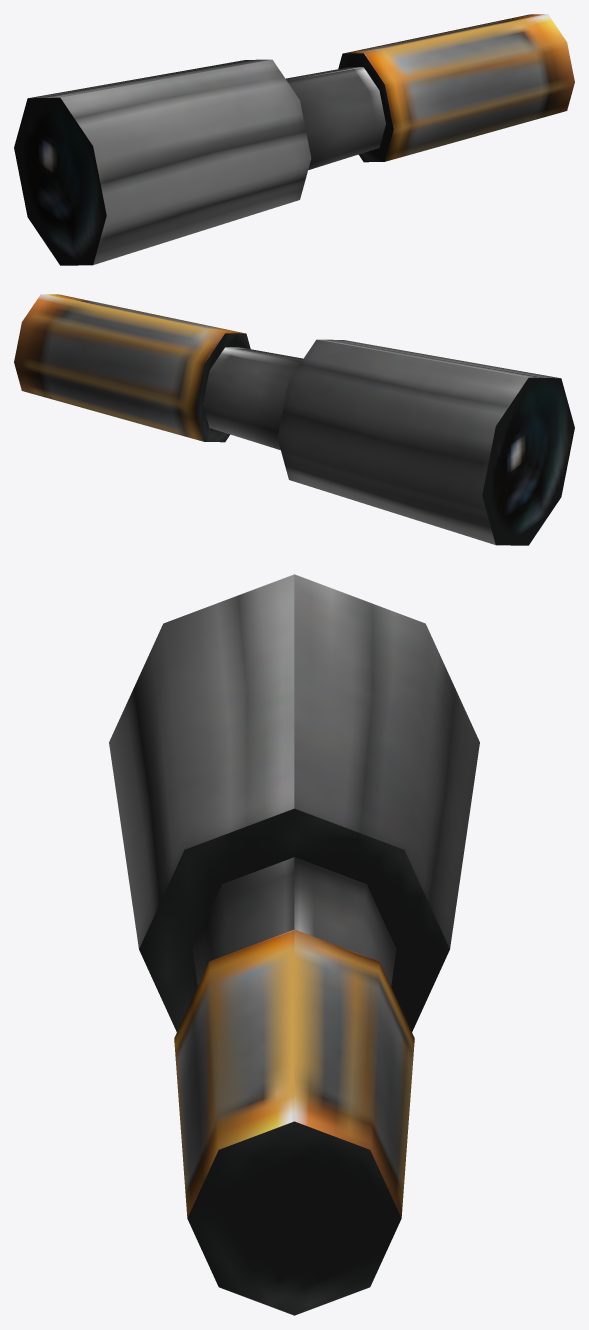
File: monocular.FBX
3 views of the same model, one above another, from view 1: azimuth 30°, elevation 25°; view 2: azimuth 150°, elevation 25°; view 3: azimuth 270°, elevation 25° (orthographic). The views are drawn at different scales.
Visible parts, largest first — view 1: InventoryItem_Monoscope; view 2: InventoryItem_Monoscope; view 3: InventoryItem_Monoscope.
Part boxes in pixels (x1,y1,x2,y2): InventoryItem_Monoscope: [14, 14, 574, 265]; InventoryItem_Monoscope: [14, 294, 574, 545]; InventoryItem_Monoscope: [109, 574, 479, 1315].
Bounding box in the file's own units: 290 × 95.41 × 95.41.
1 material, 1 textured.
